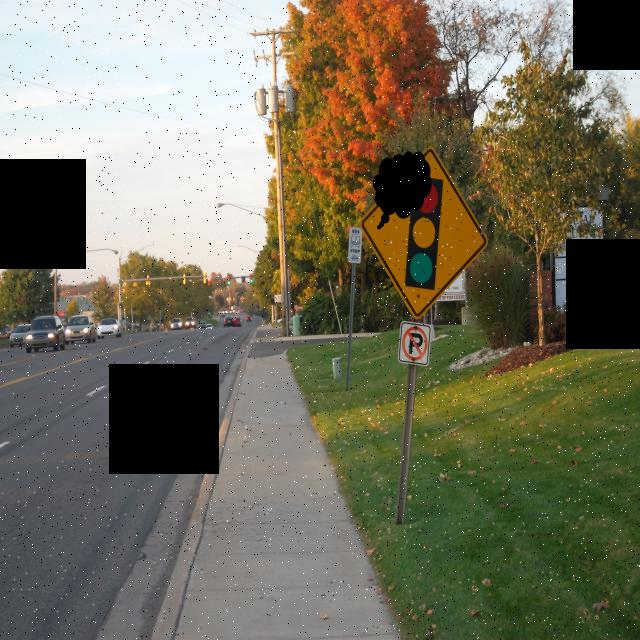regulatory: (400, 322, 430, 364)
warning: (360, 148, 488, 316)
